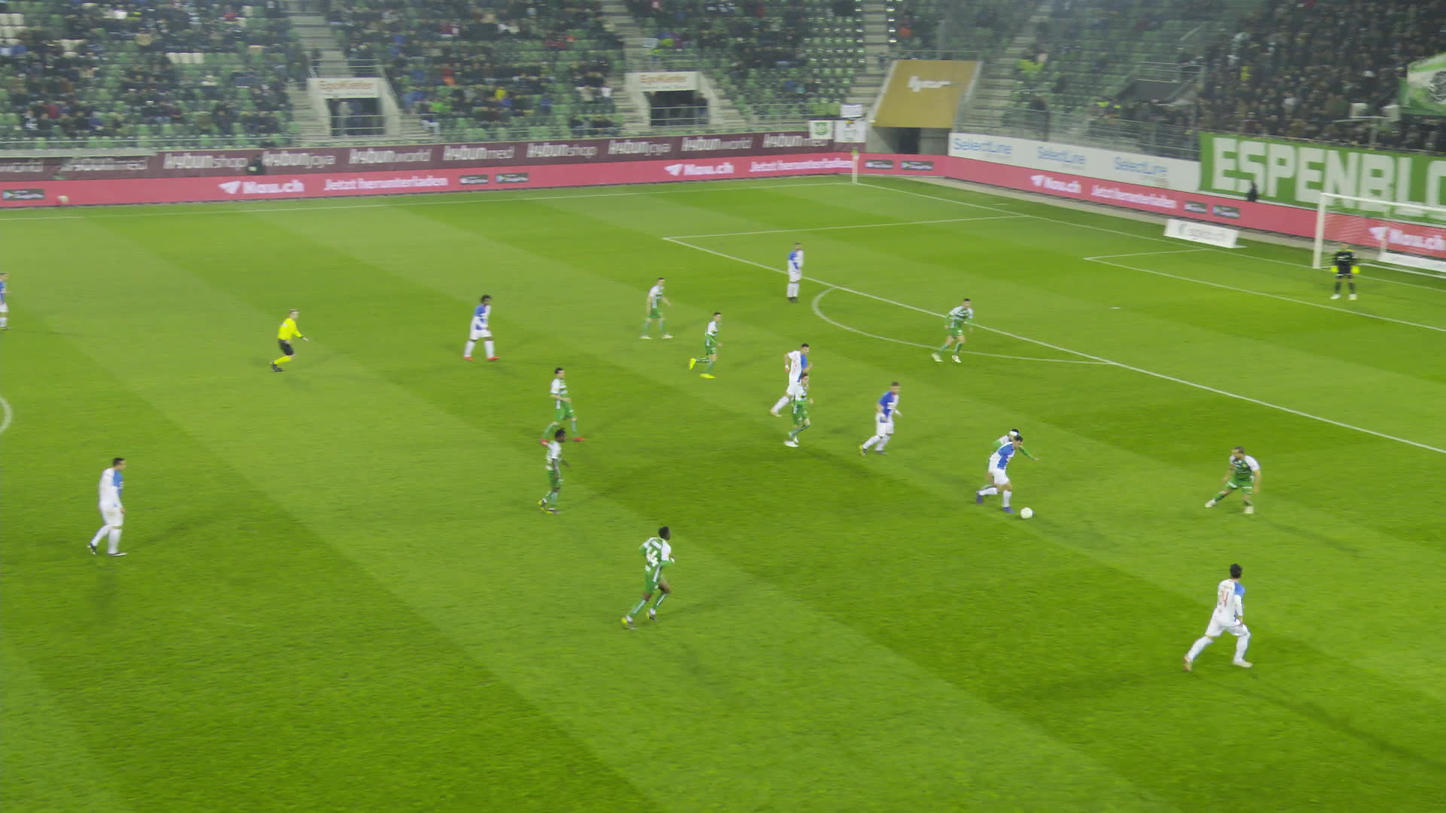ball: (1020, 505, 1033, 519)
player: (1183, 562, 1260, 677), (83, 456, 139, 557), (621, 526, 676, 628), (1202, 443, 1268, 516), (967, 436, 1029, 512), (968, 426, 1025, 504), (778, 344, 825, 425), (860, 379, 907, 457), (686, 308, 734, 377), (539, 430, 576, 513), (776, 372, 816, 448), (932, 298, 974, 363), (464, 294, 504, 361), (546, 362, 574, 442), (634, 279, 670, 341), (1332, 241, 1366, 301), (782, 242, 813, 300), (0, 271, 16, 332)
referee: (268, 305, 306, 376)
